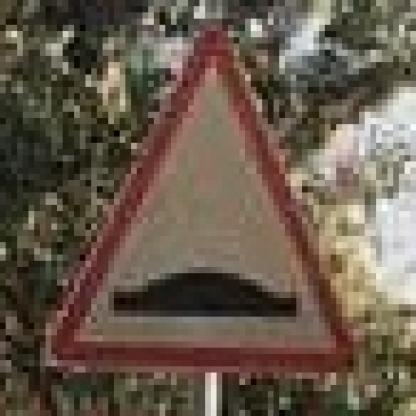Speed Breaker Ahead: (43, 18, 361, 371)
